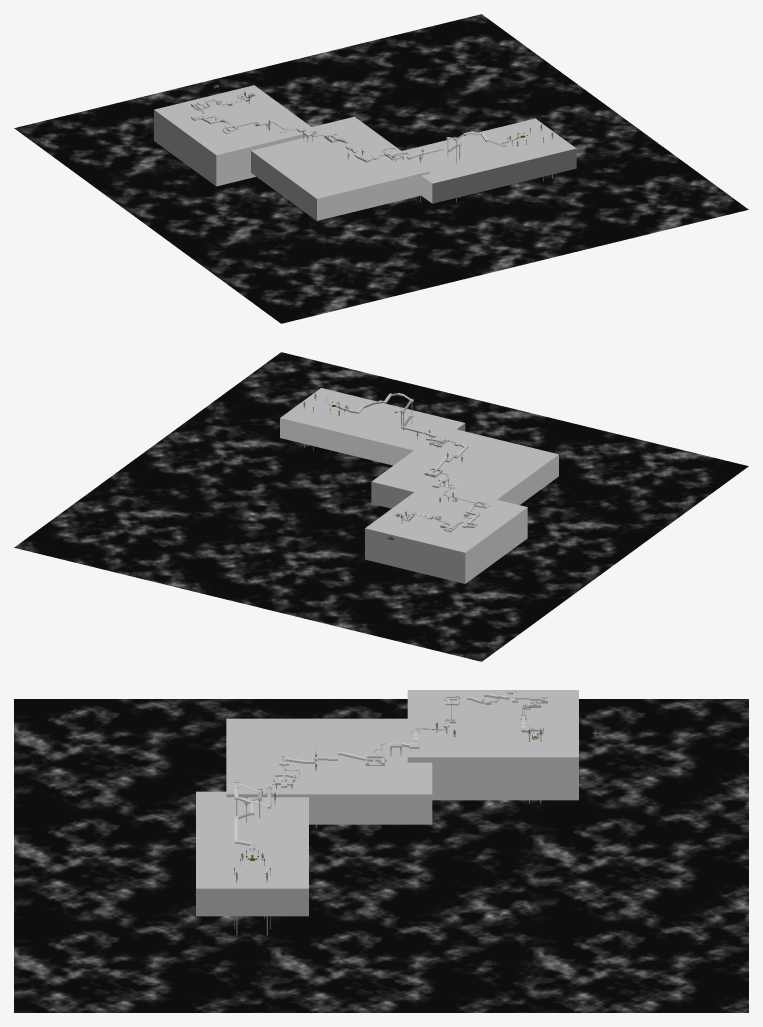
The model's file is level_1.FBX.
The picture shows the model from 3 angles, top to bottom: view 1: azimuth 30°, elevation 25°; view 2: azimuth 150°, elevation 25°; view 3: azimuth 270°, elevation 25°; orthographic projection. The views are drawn at different scales.
Parts seen in each view (by area): view 1: SkyLayer, Quader02, Quader01, Quader03; view 2: SkyLayer, Quader01, Quader02, Quader03; view 3: SkyLayer, Quader02, Quader01, Quader03.
Boxes of the visible parts, x1,y1,x2,y2 form: SkyLayer: [14, 14, 748, 323]; Quader02: [251, 116, 429, 220]; Quader01: [154, 85, 316, 186]; Quader03: [402, 118, 576, 203]; SkyLayer: [14, 352, 748, 661]; Quader01: [365, 482, 527, 583]; Quader02: [371, 427, 558, 508]; Quader03: [280, 388, 465, 465]; SkyLayer: [14, 699, 748, 1012]; Quader02: [226, 718, 432, 824]; Quader01: [407, 690, 578, 800]; Quader03: [196, 791, 308, 916].
Size of the model in its own units: 1893 by 430 by 1873.
